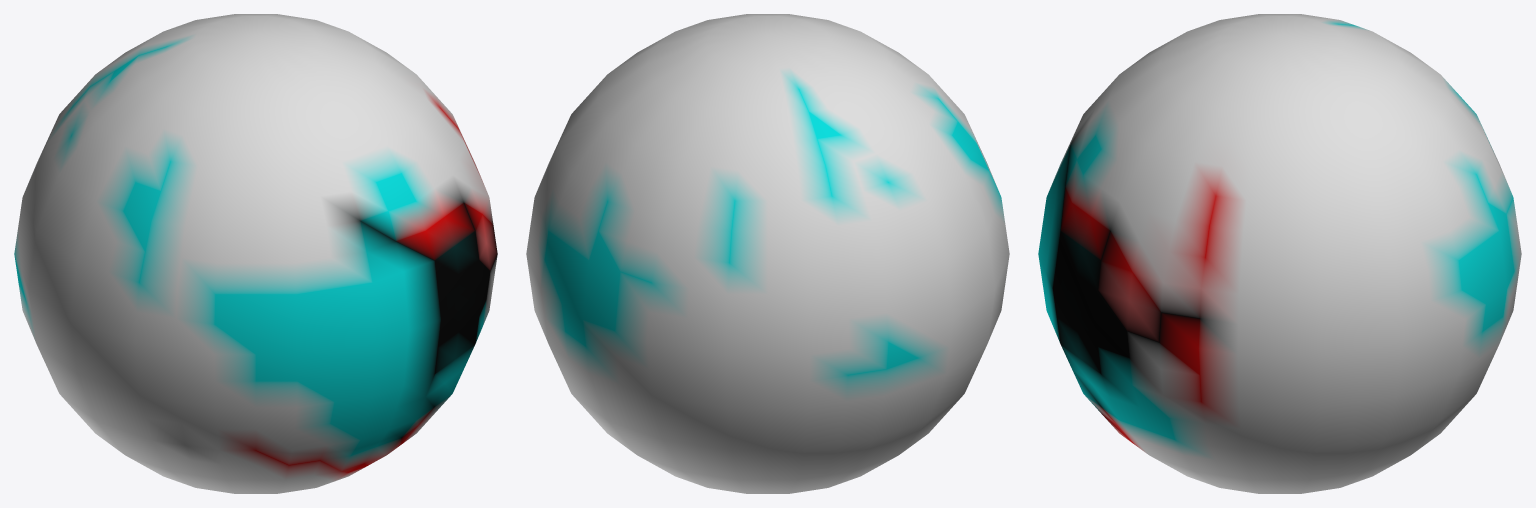
The model's file is Sphere_VertexColors.fbx.
3 views of the same model, side by side, from view 1: azimuth 30°, elevation 25°; view 2: azimuth 150°, elevation 25°; view 3: azimuth 270°, elevation 25° (orthographic).
Visible parts, largest first — view 1: Mesh; view 2: Mesh; view 3: Mesh.
Part boxes in pixels (x1,y1,x2,y2): Mesh: (14, 14, 497, 493); Mesh: (526, 14, 1009, 493); Mesh: (1038, 14, 1521, 493).
Size of the model in its own units: 591 by 600 by 600.
